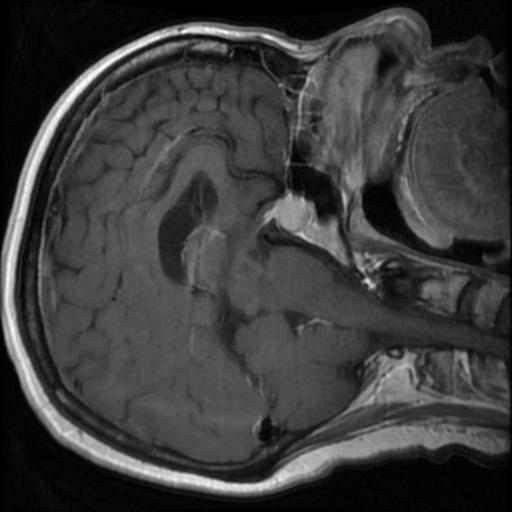pituitary tumour: (263, 193, 308, 230)
